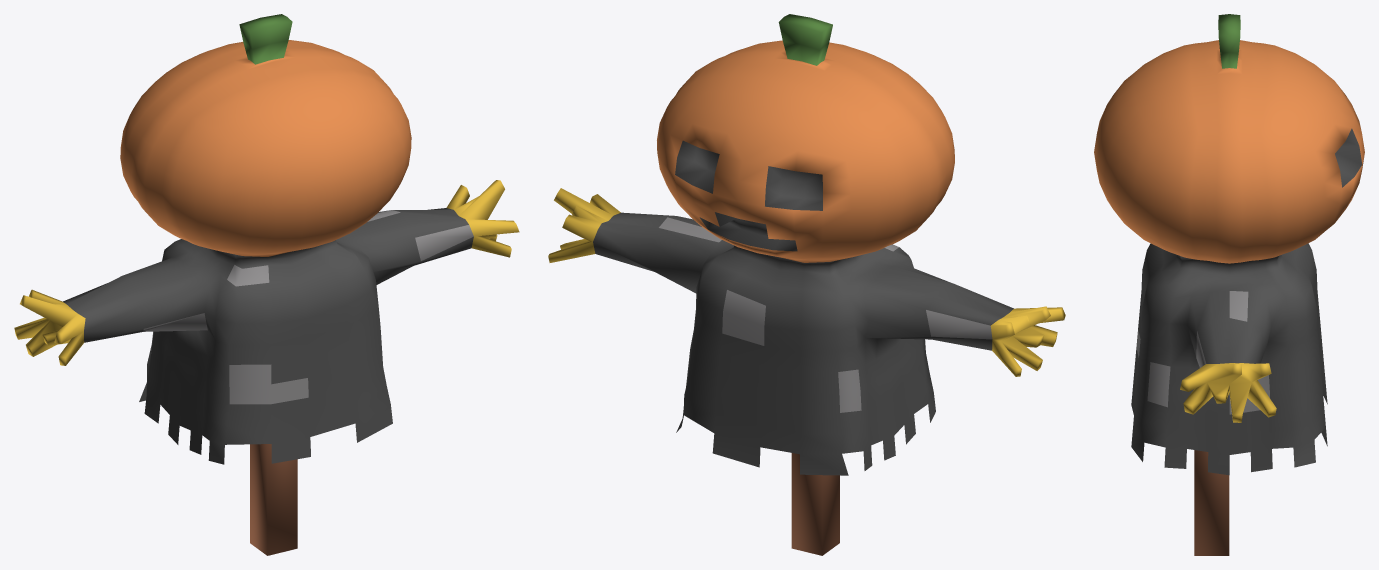
The model's file is ScareCrow.fbx.
The picture shows the model from 3 angles, left to right: view 1: azimuth 30°, elevation 25°; view 2: azimuth 150°, elevation 25°; view 3: azimuth 270°, elevation 25°; orthographic projection. The views are drawn at different scales.
Visible parts, largest first — view 1: Cube.001; view 2: Cube.001; view 3: Cube.001.
Part boxes in pixels (x1,y1,x2,y2): Cube.001: (14,14,519,555); Cube.001: (548,14,1065,555); Cube.001: (1094,14,1364,555).
Size of the model in its own units: 413 by 199 by 425.
